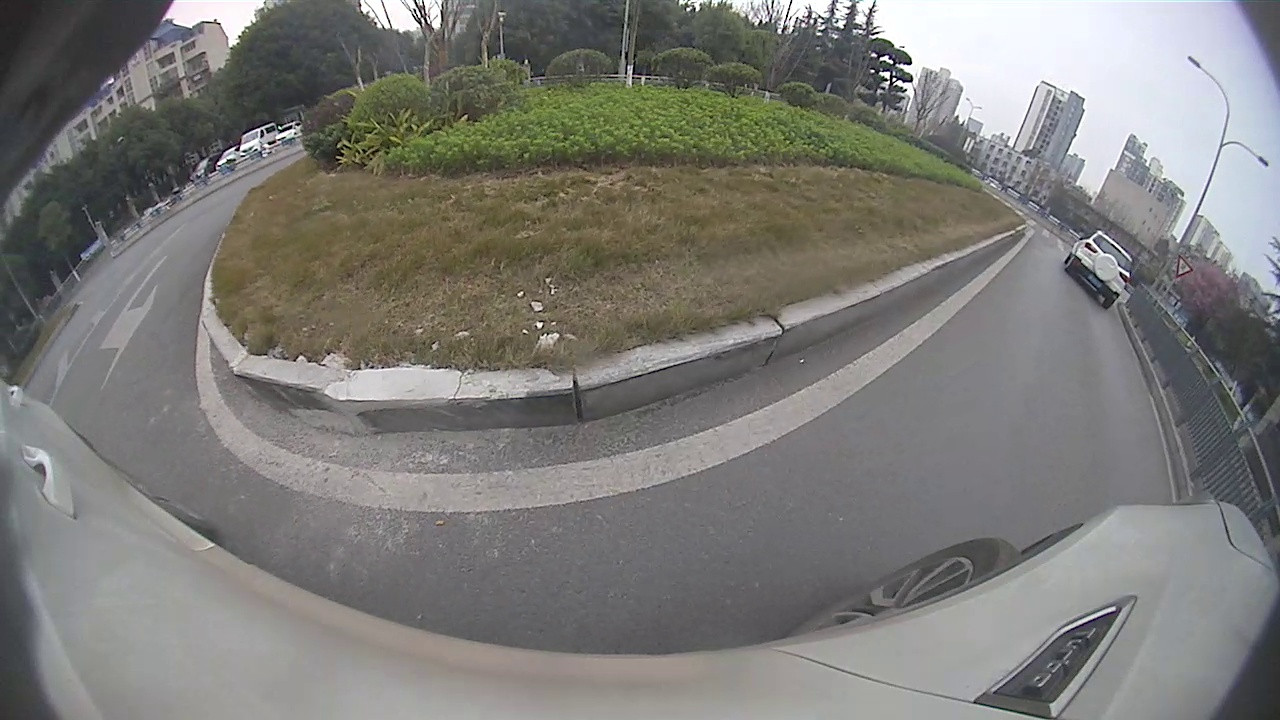car: (1067, 231, 1132, 308), (238, 125, 280, 158)
